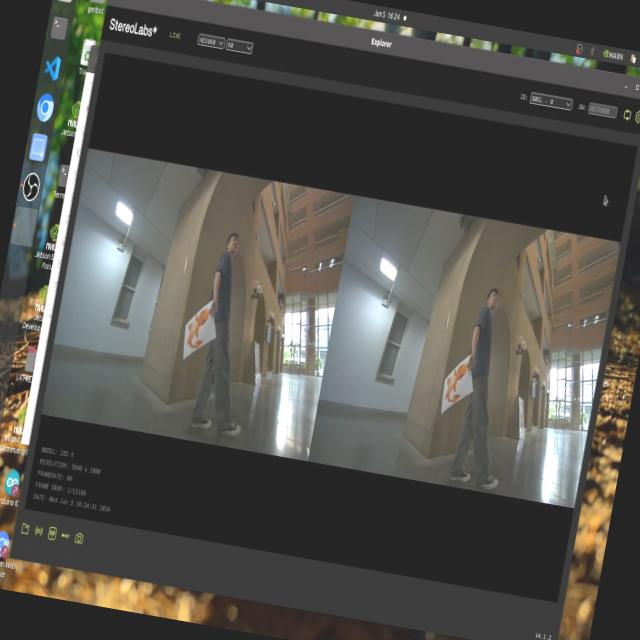red: (180, 302, 217, 354), (440, 354, 466, 406)
